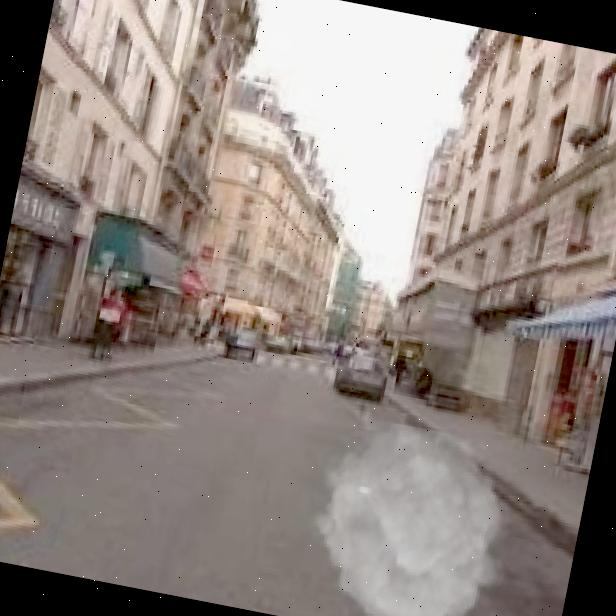smoke: (289, 411, 530, 616)
